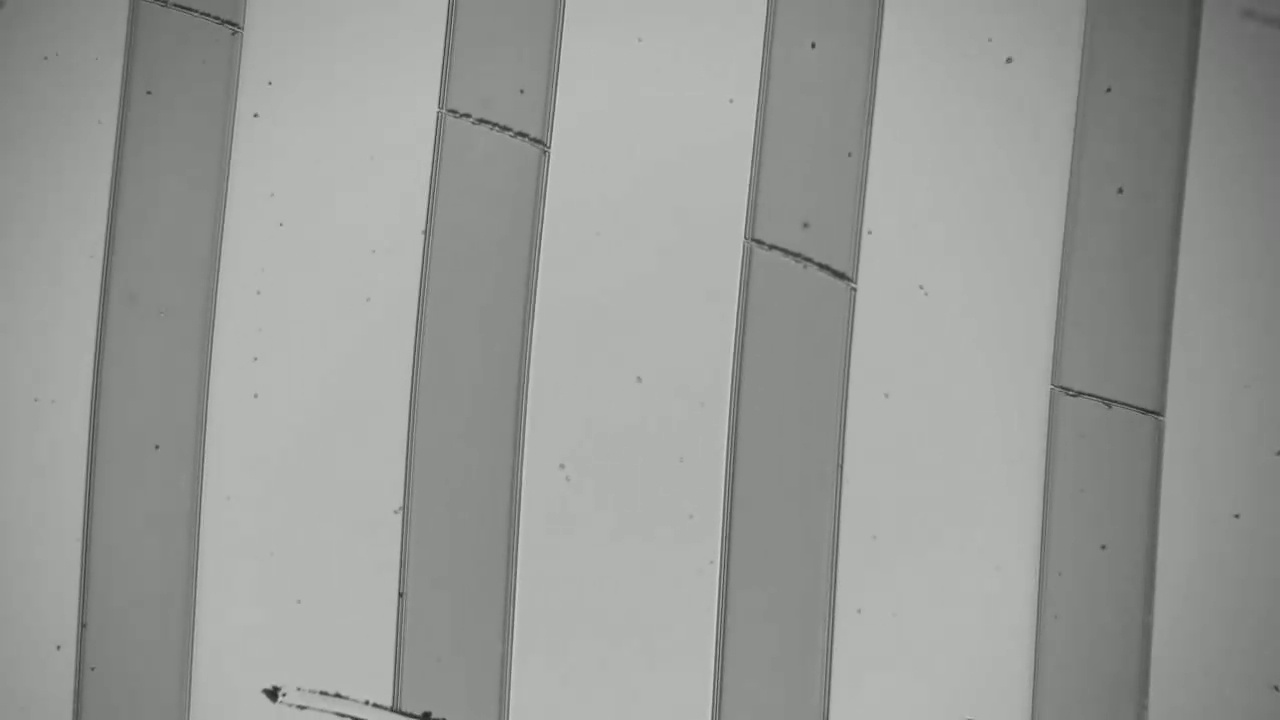Short_circuit: (1062, 366, 1156, 434), (451, 100, 538, 157), (763, 232, 844, 282), (156, 1, 231, 38)
